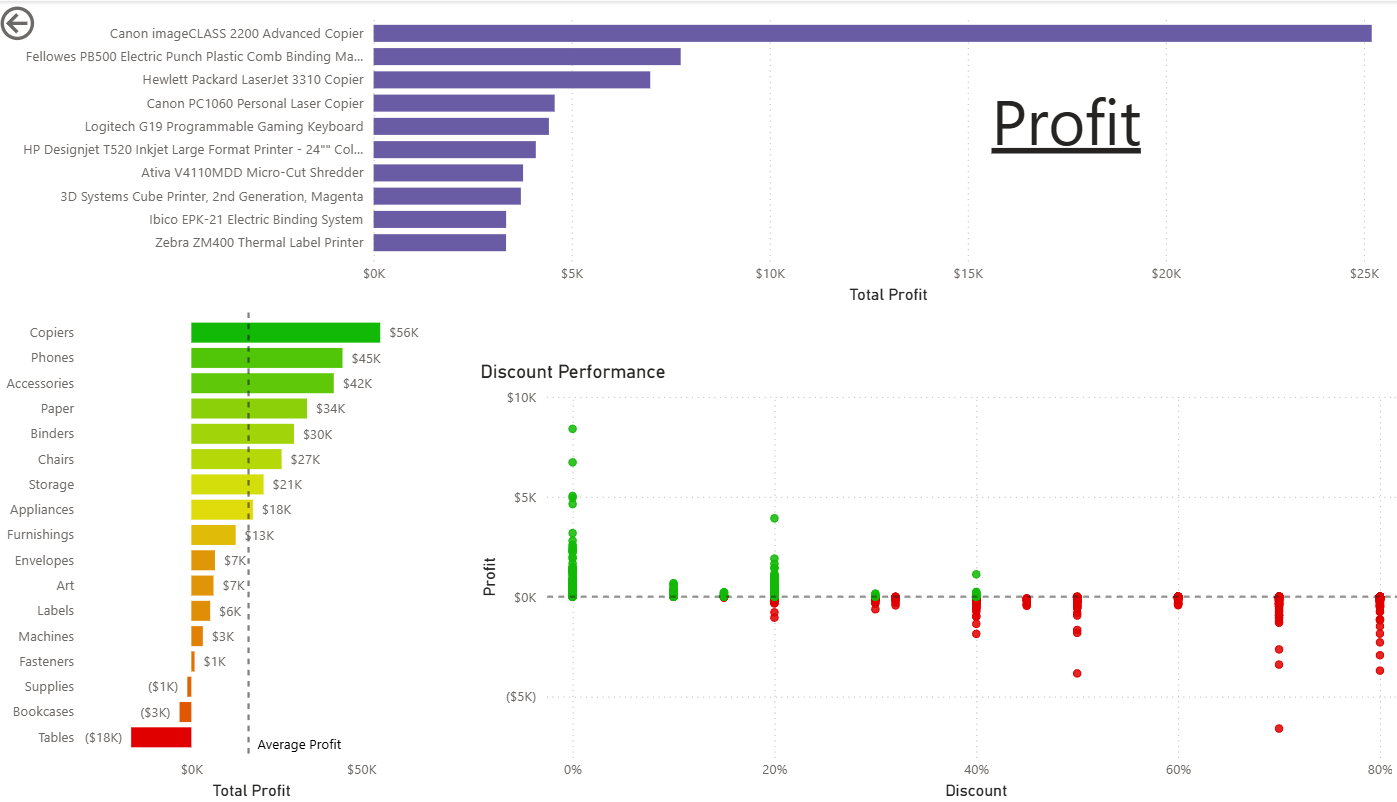

The page's visual inventory and layout, read from the dashboard file:
{"tool":"powerbi","page":{"name":"Profit","canvas":[1280,720],"ordinal":1},"visuals":[{"type":"clusteredBarChart","fields":{"Y":["_Measures.Total Profit"],"Category":["dProduct.Product_Name"]},"box":[7.8,0,1272.2,275.6],"z":2500},{"type":"scatterChart","title":"Discount Performance","fields":{"Y":["fOrders.Profit"],"X":["fOrders.Discount"]},"box":[430,321.1,850,398.9],"z":3000},{"type":"clusteredBarChart","title":"Total Profit","fields":{"Category":["dProduct.Sub_Category"],"Y":["_Measures.Total Profit"]},"box":[0,265.6,398.9,454.4],"z":3125},{"type":"actionButton","box":[0,0,100,40],"z":3375},{"type":"textbox","box":[877.8,63.3,163.3,104.4],"z":3875}]}

Visuals, with their boxes in screenshot pixels (x1, y1, x2, y2), scaled from the page's 1280x720 canvas onto the 1397x802 screenshot:
clusteredBarChart - _Measures.Total Profit x dProduct.Product_Name: 9/0/1396/307
"Discount Performance" scatterChart: 469/358/1396/801
"Total Profit" clusteredBarChart: 0/296/435/801
actionButton: 0/0/109/45
textbox: 958/71/1136/187
